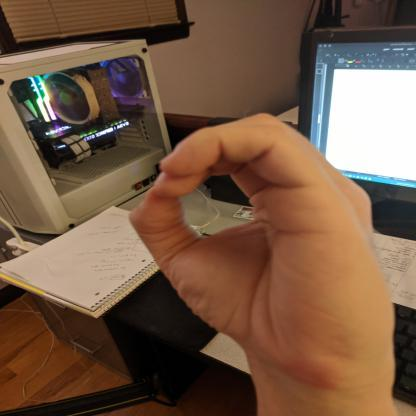O: (125, 110, 402, 396)
